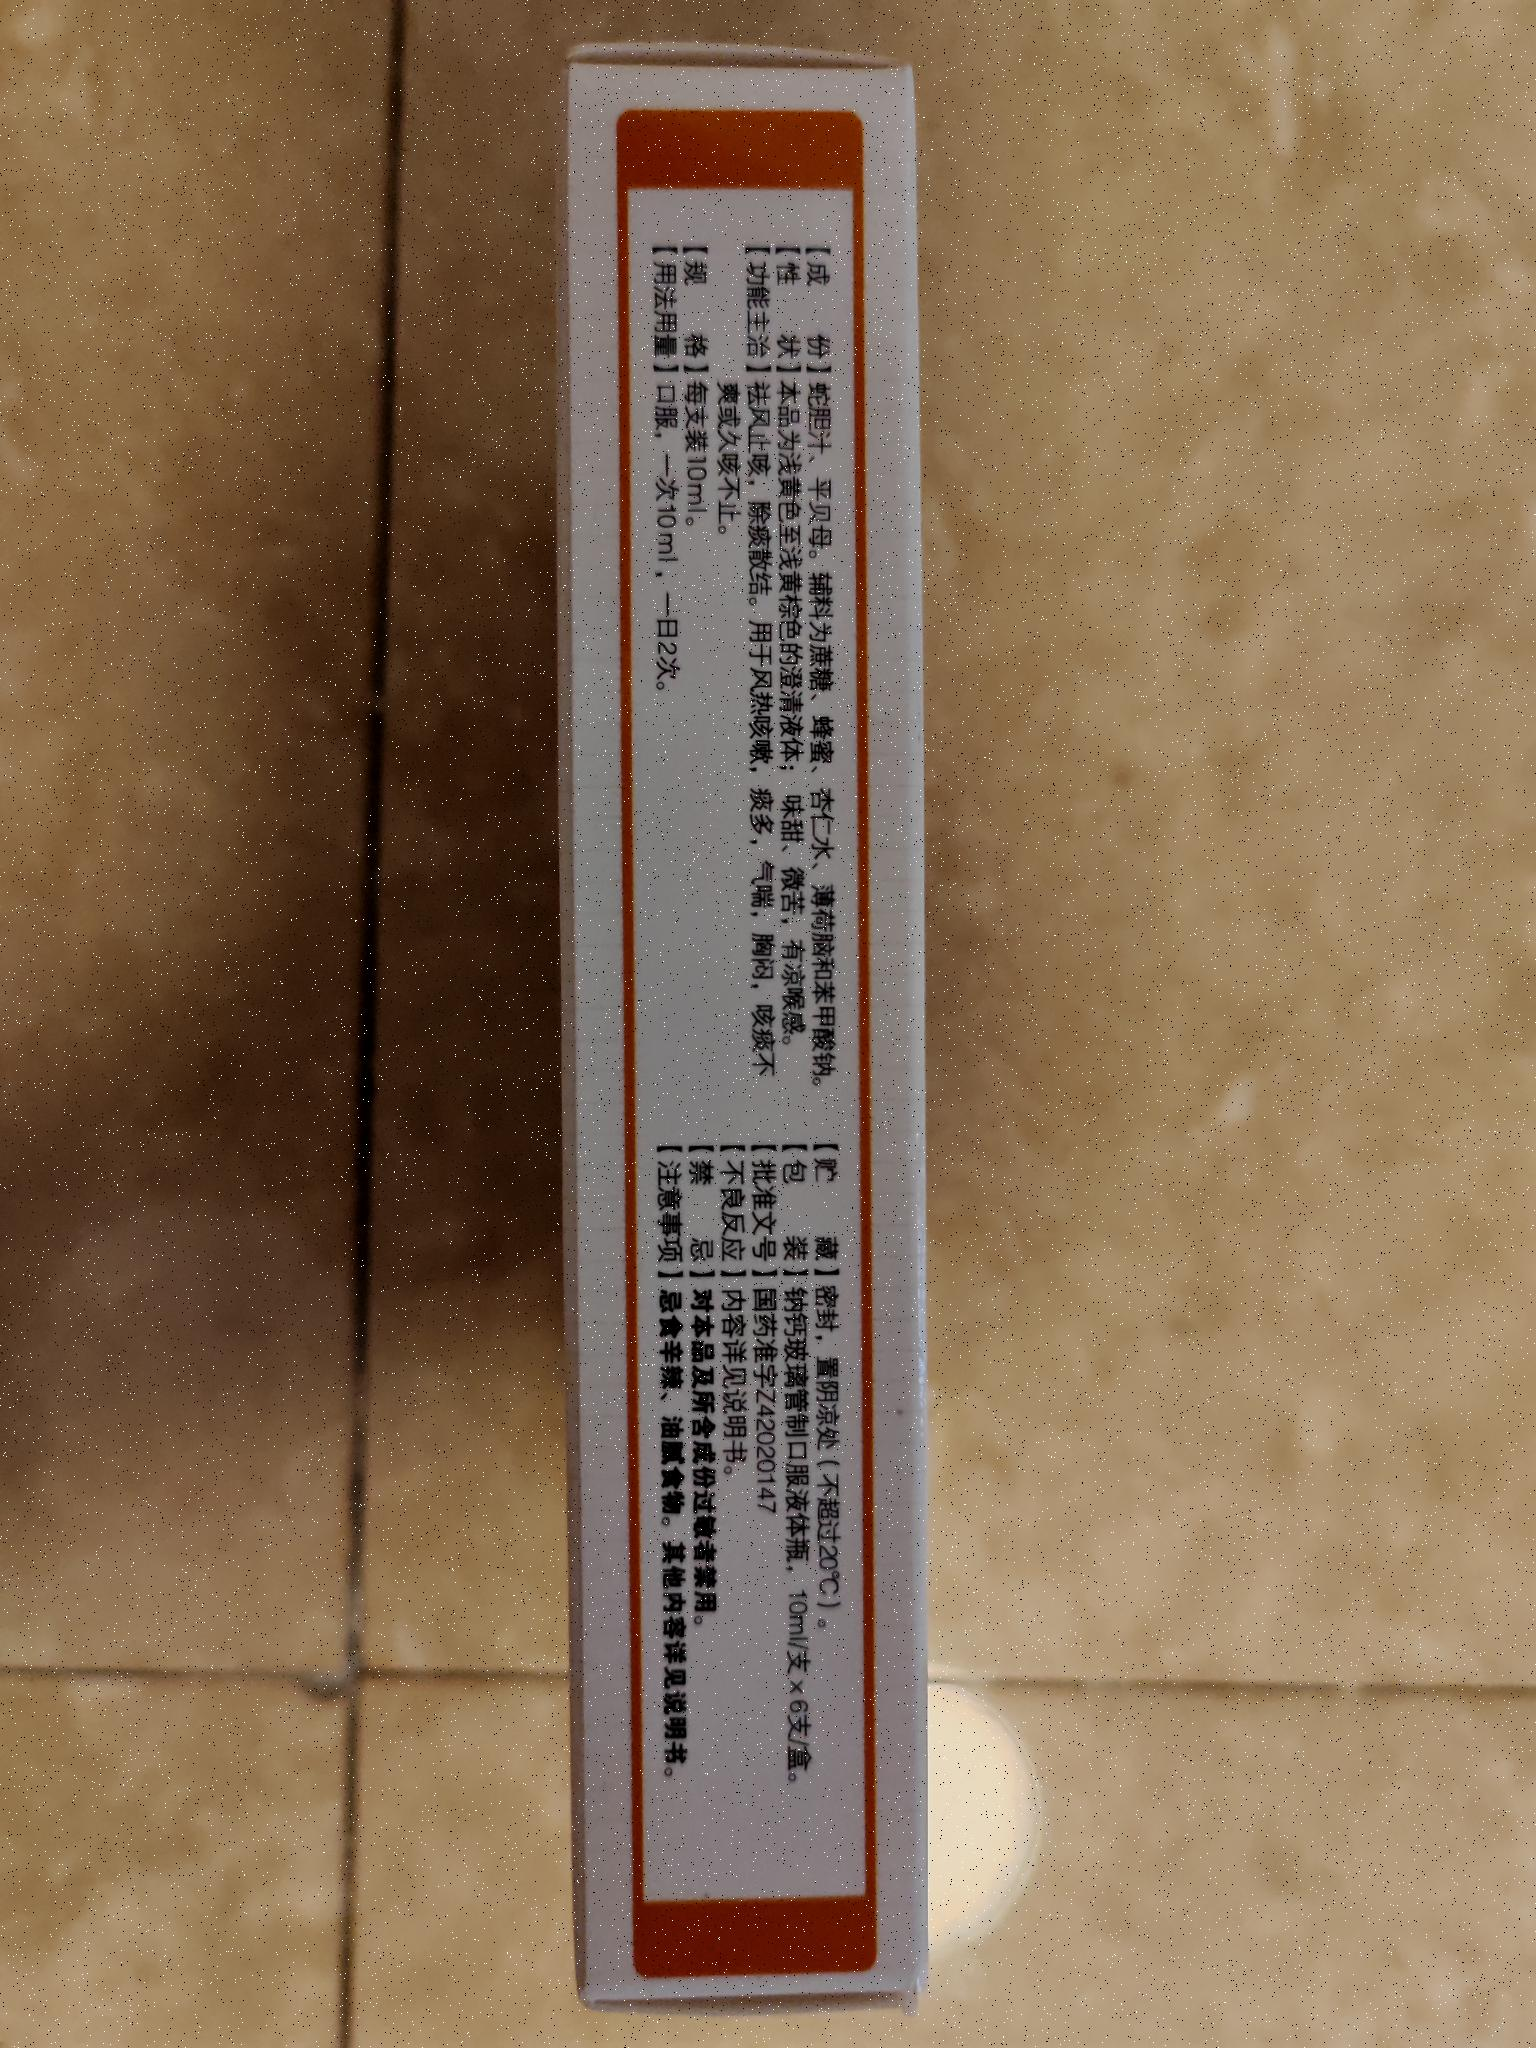Medicine5: (528, 18, 973, 2038)
